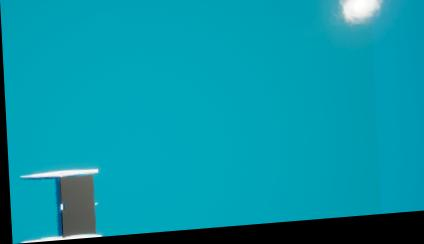boat: (13, 165, 103, 244)
drone: (59, 176, 94, 238)
land_base: (326, 0, 398, 43)
